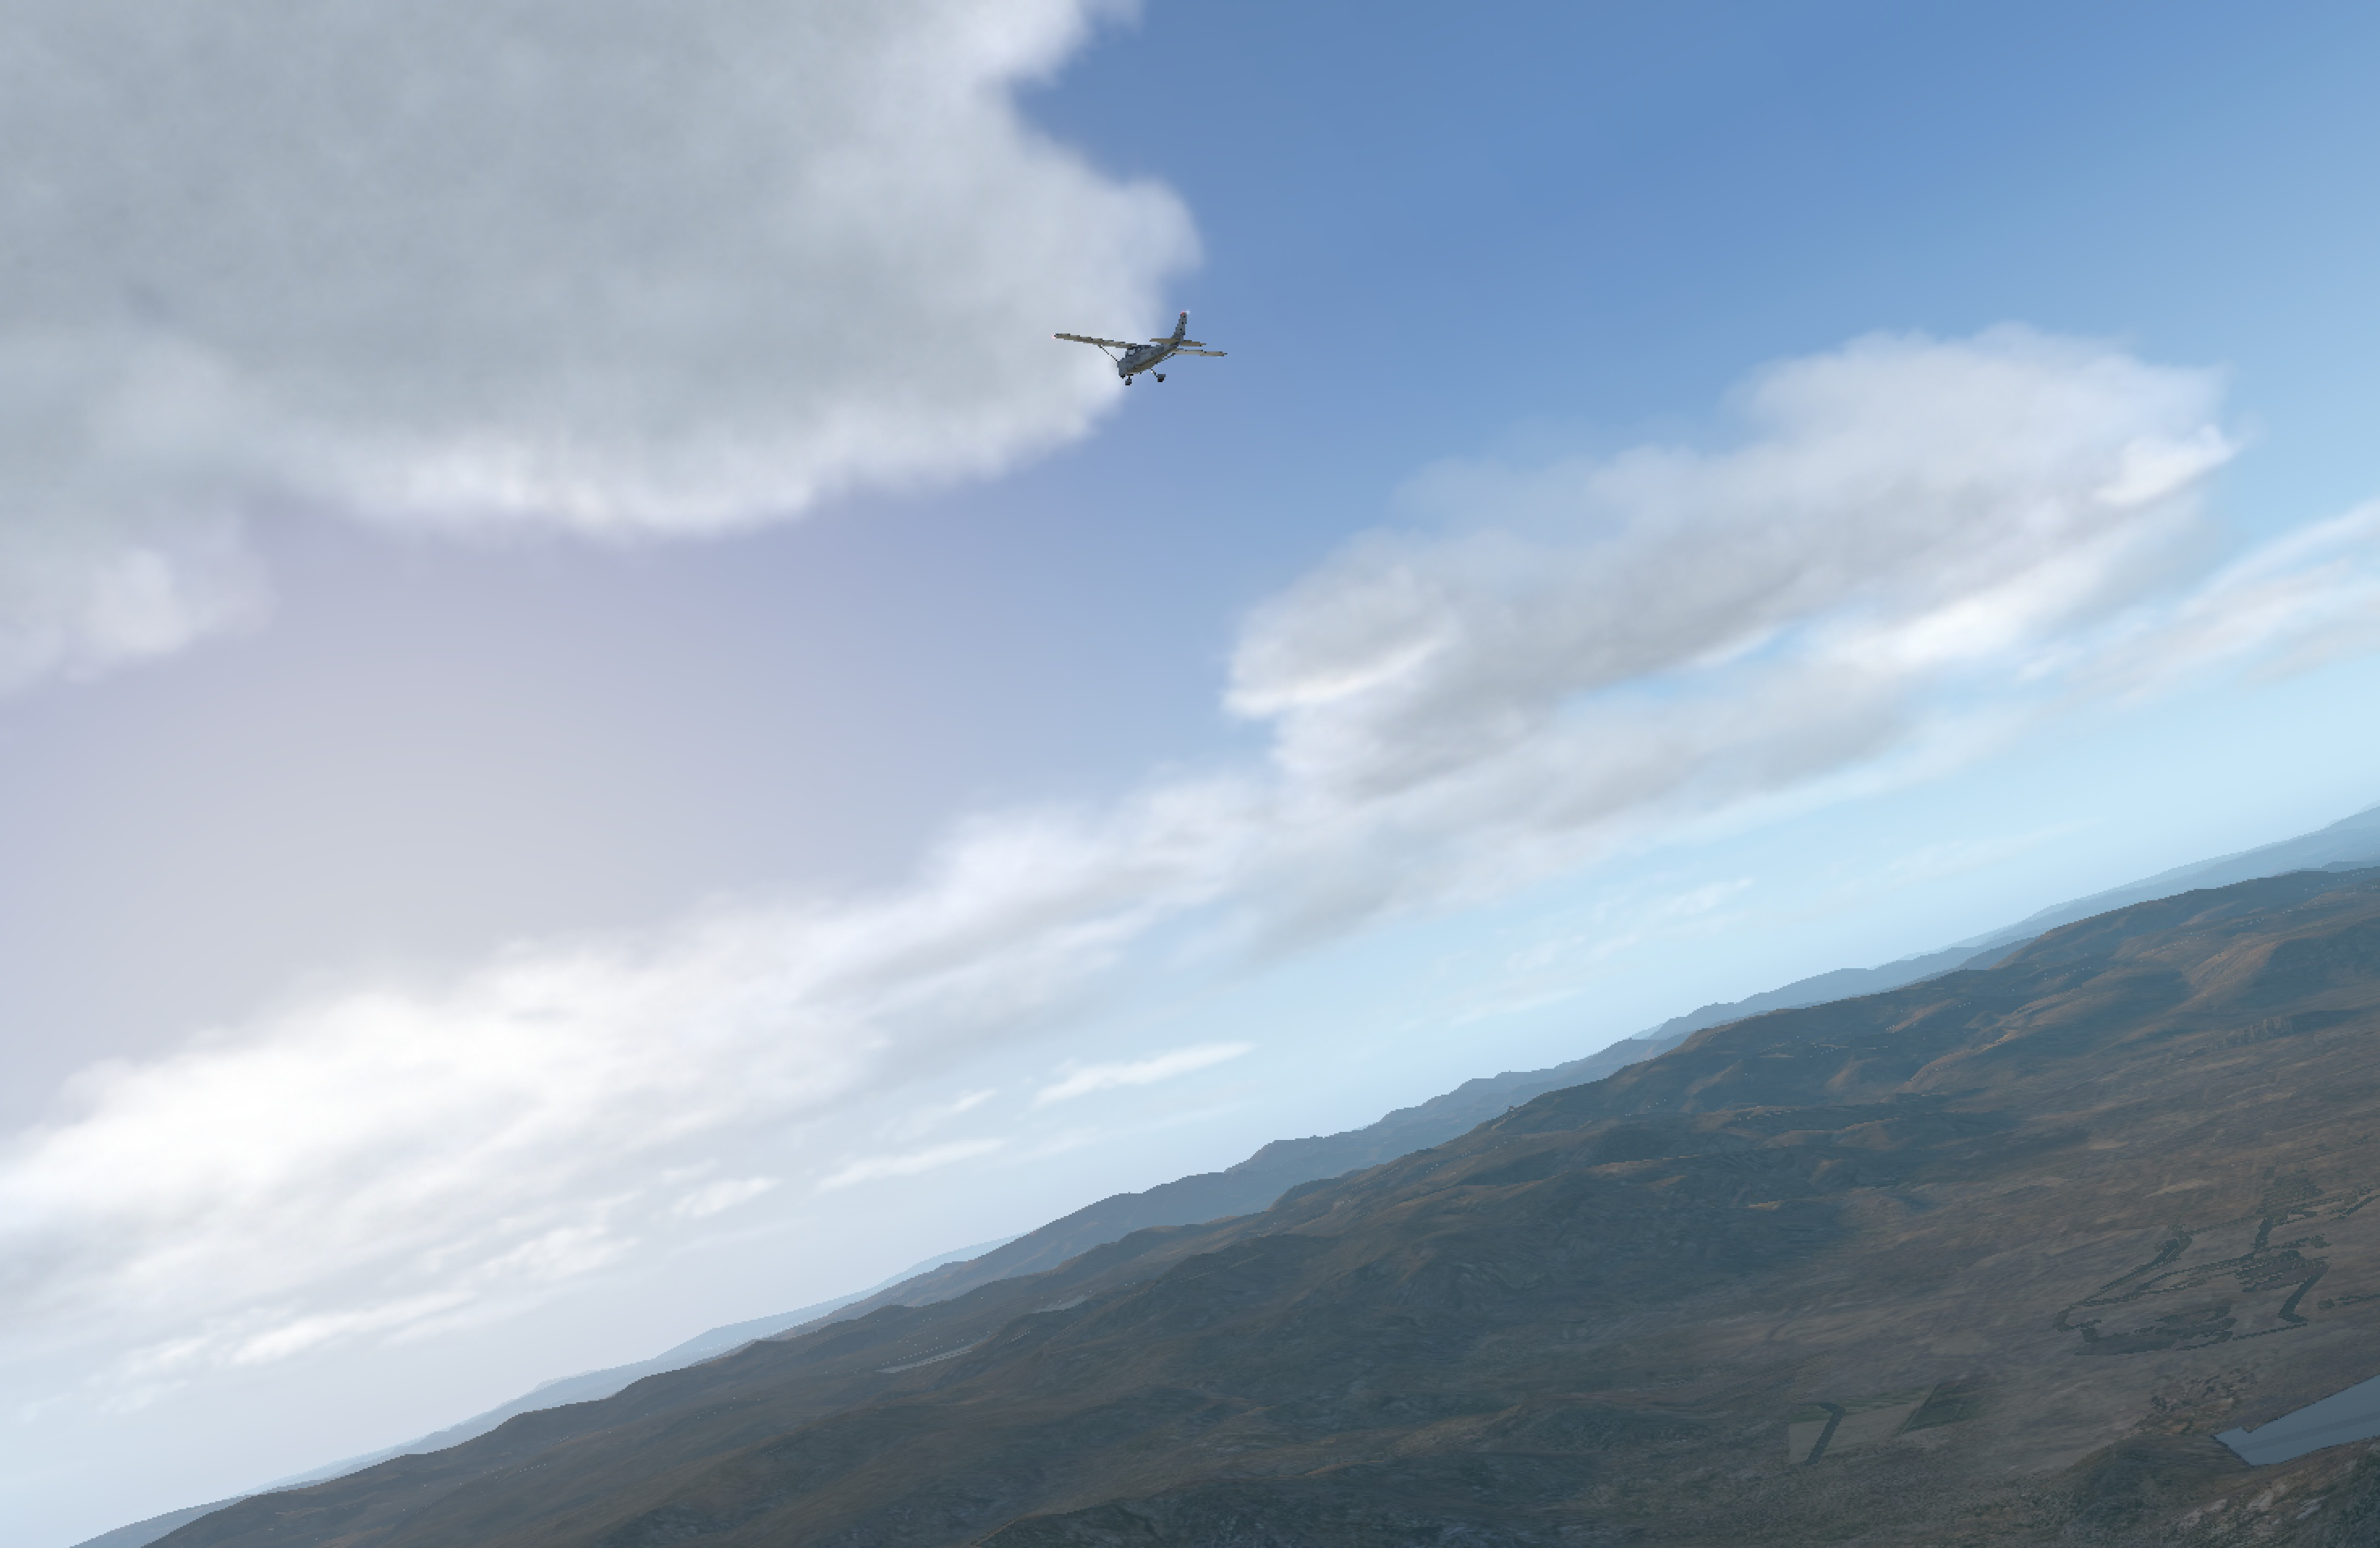aircraft: (1072, 333, 1206, 382)
